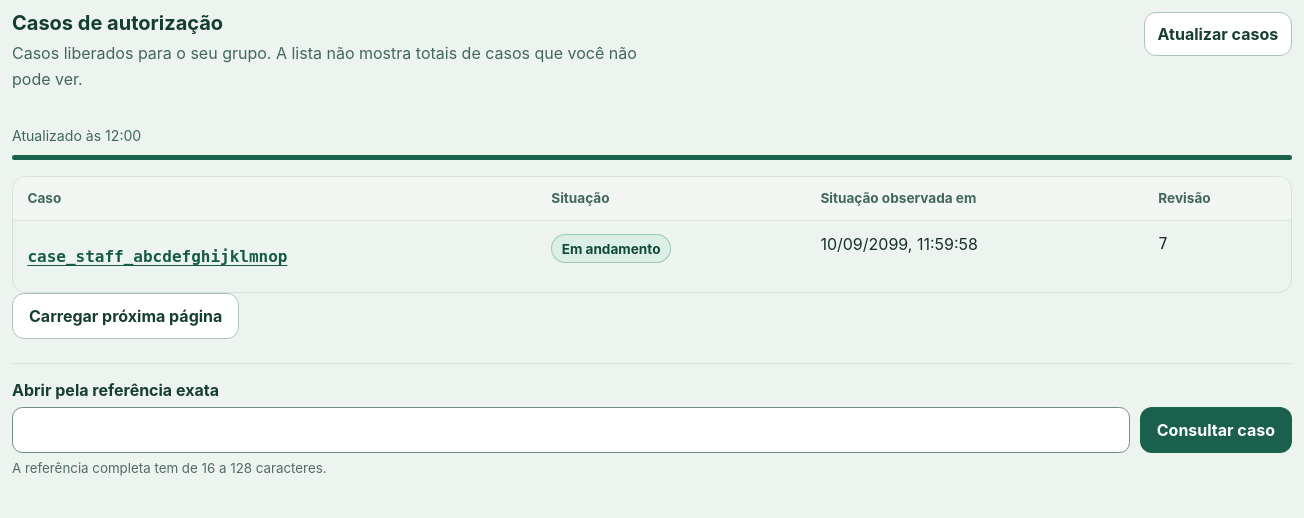
Test: acrescenta somente a próxima página ligada ao cursor opaco
Click the button "Carregar próxima página" at x=126, y=316, box top-left (12, 293), bottom-right (239, 339)
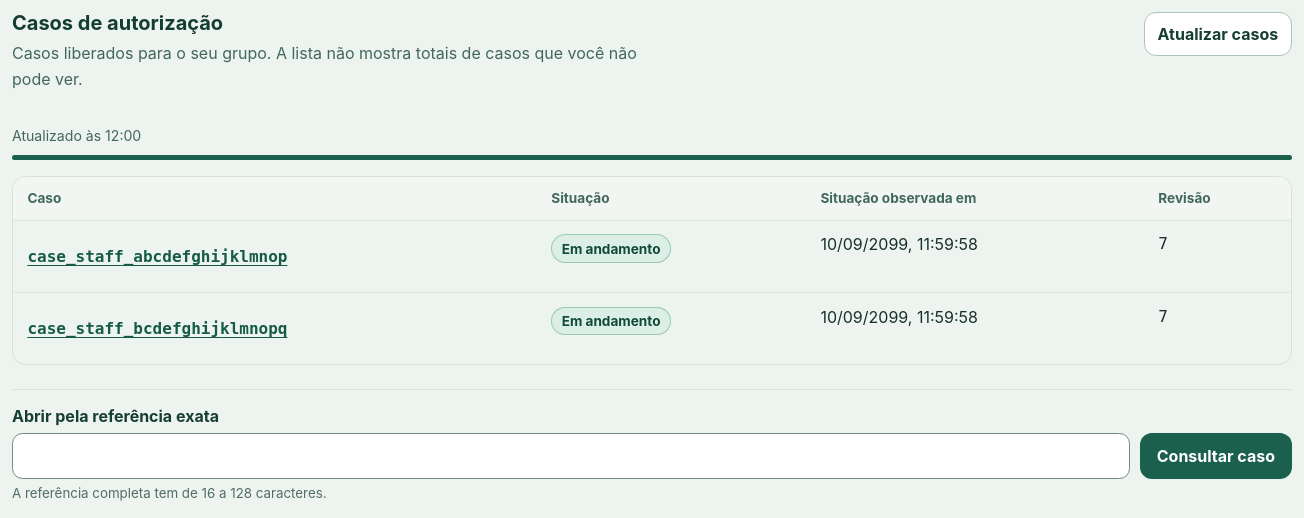
Expected: the link "case_staff_abcdefghijklmnop" is shown, top-left (27, 234), bottom-right (288, 278)
Result: the link "case_staff_bcdefghijklmnopq" is shown at top-left (27, 306), bottom-right (288, 350)
Result: the button "Carregar próxima página" is gone
